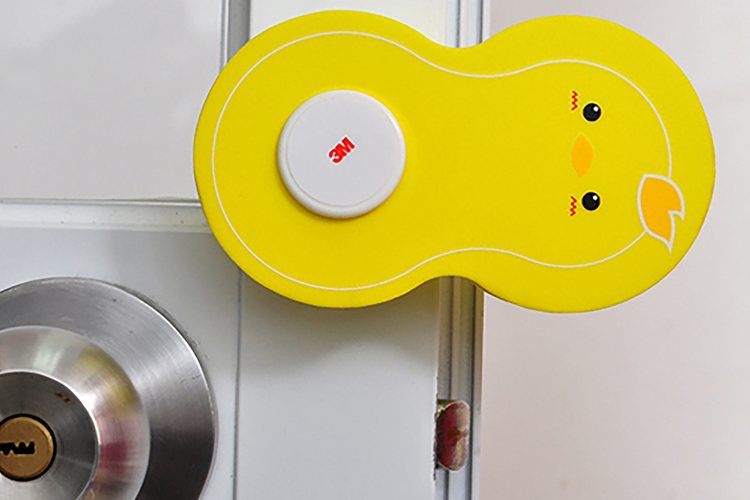3M: (317, 127, 363, 174)
